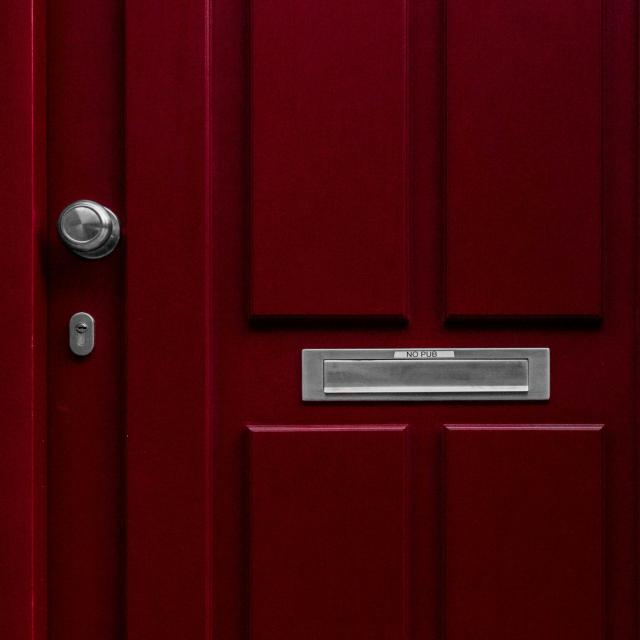door-knob: (56, 200, 120, 259)
